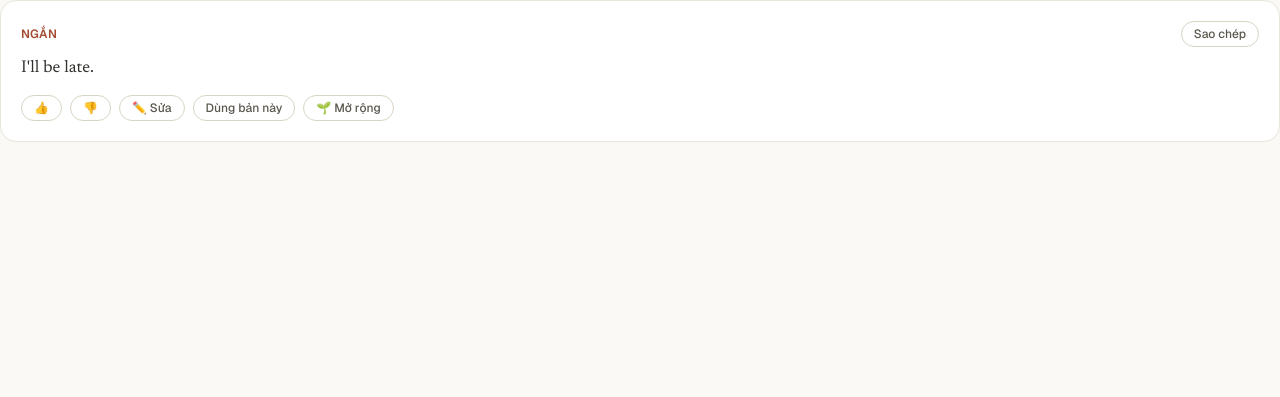
Test: DevelopableOption › shows the server's reason when it cannot develop the reply
Expected: the button named "Bản nháp hay" is shown, [21,95,62,121]
Click the button with aria-label "Mở rộng bản nháp này": (349, 108) [303,95,394,121]
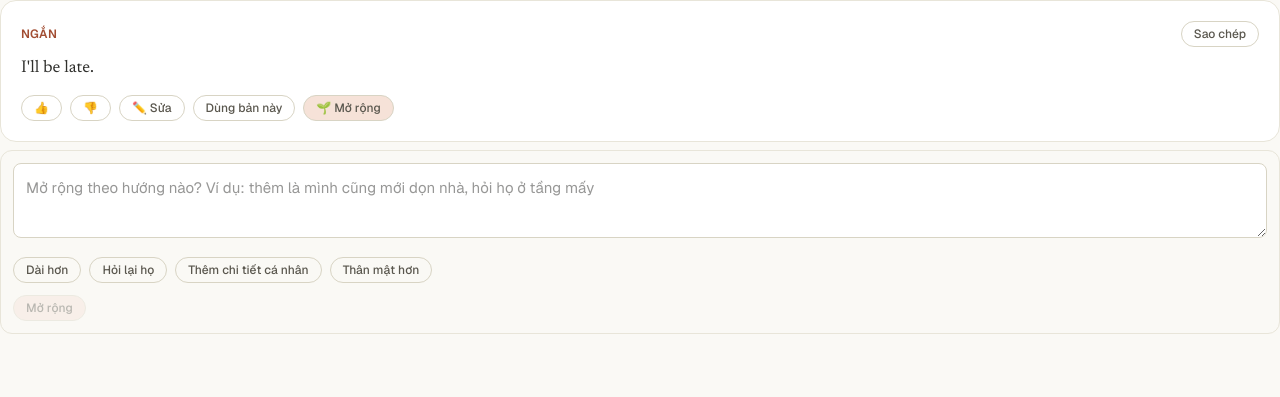
Click the button "Dài hơn": (47, 270) [13,257,81,283]
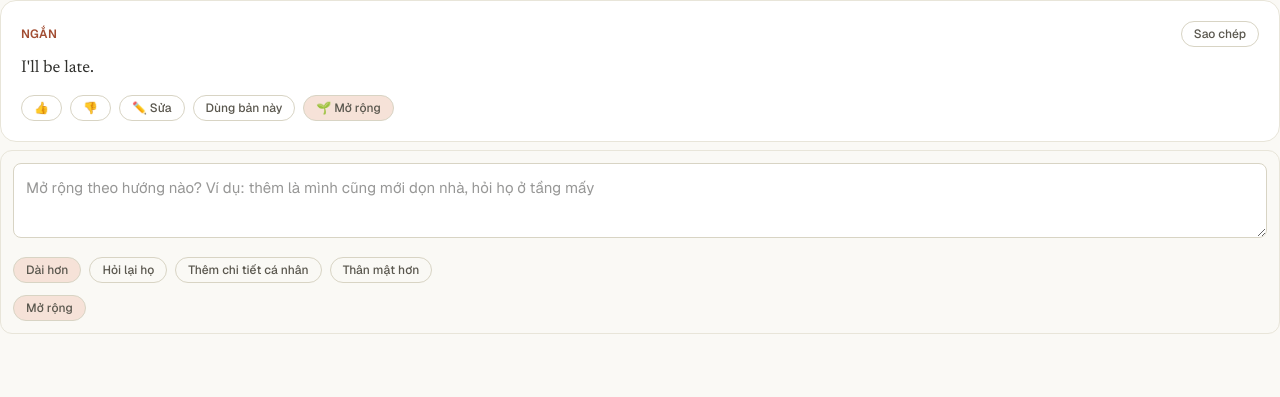
Click the button "Mở rộng": (49, 308) [13,295,86,321]
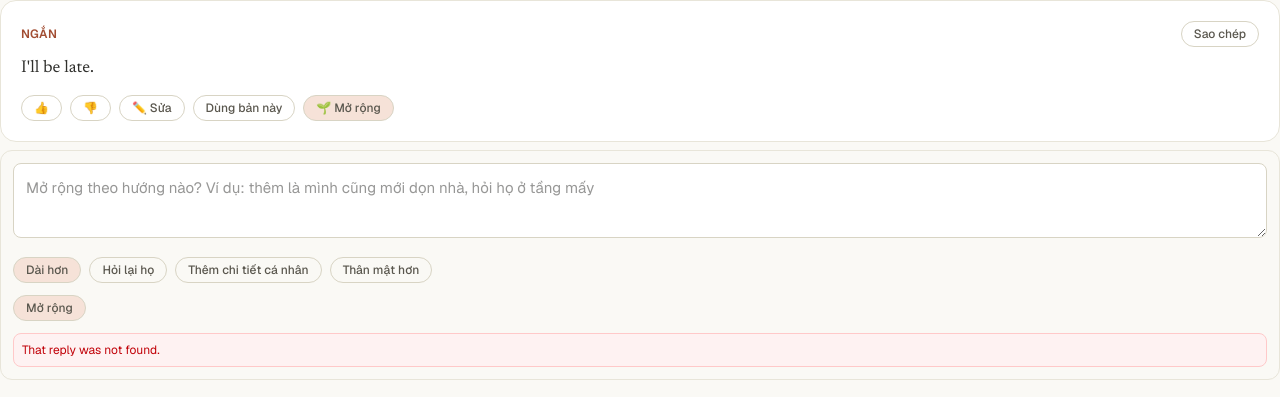
Expected: the button "Mở rộng" is enabled, [13,295,86,321]
Expected: the message reads "That reply was not found.", [22,342,160,358]
